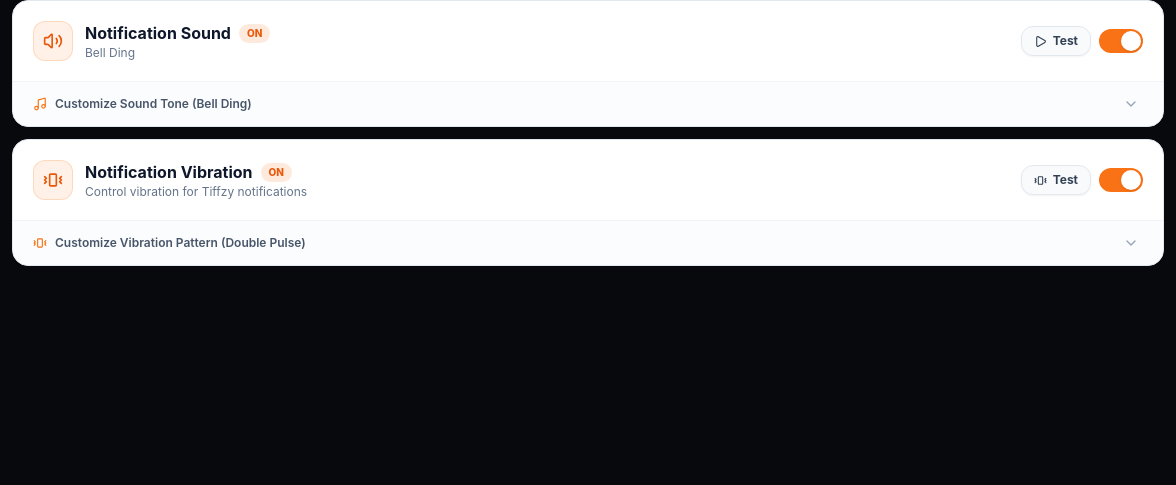
Test: Tiffzy Responsive Design System Audit › 1. Notification Sound & Vibration Settings › keeps sound customization panel CLOSED by default until user clicks Notification Sound
Expected: the text "Select an alert tone below" is not shown
Expected: the text "Chime Alert" is not shown
Note: Click "Notification Sound" heading to expand
Click the heading "Notification Sound". click: (158, 33)
box: top-left (85, 21), bottom-right (231, 45)
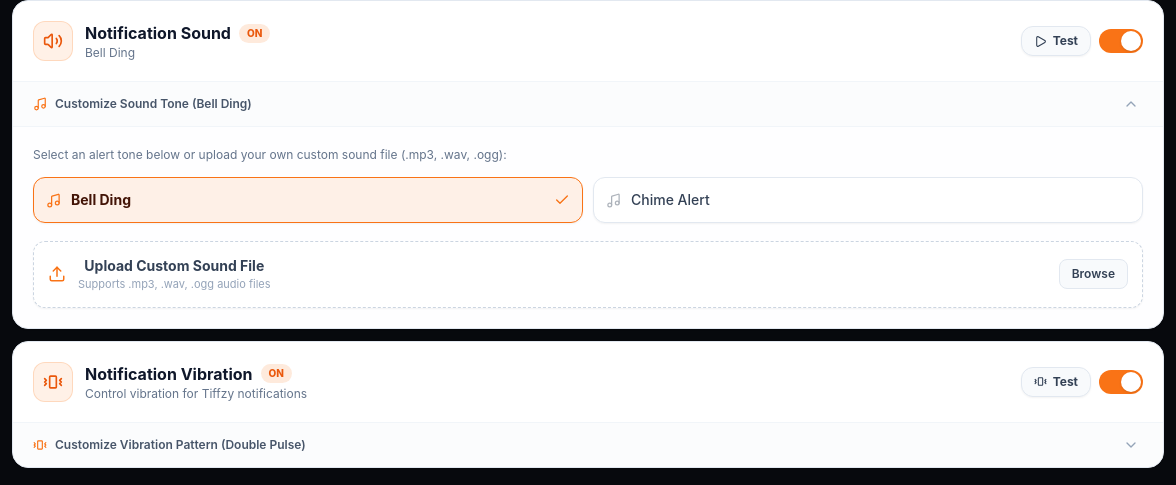
Expected: the text "Select an alert tone below" is shown, top-left (33, 147), bottom-right (507, 162)
Expected: the text "Chime Alert" is shown, top-left (631, 190), bottom-right (710, 210)
